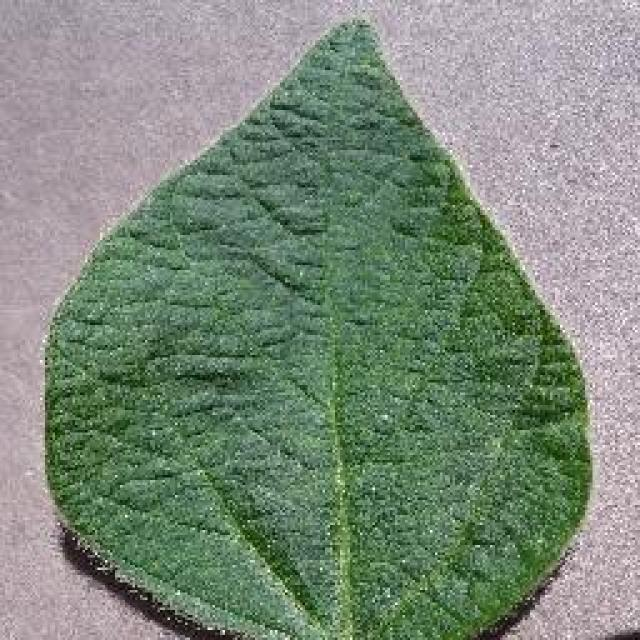Soy_healthy: (62, 85, 584, 596)
